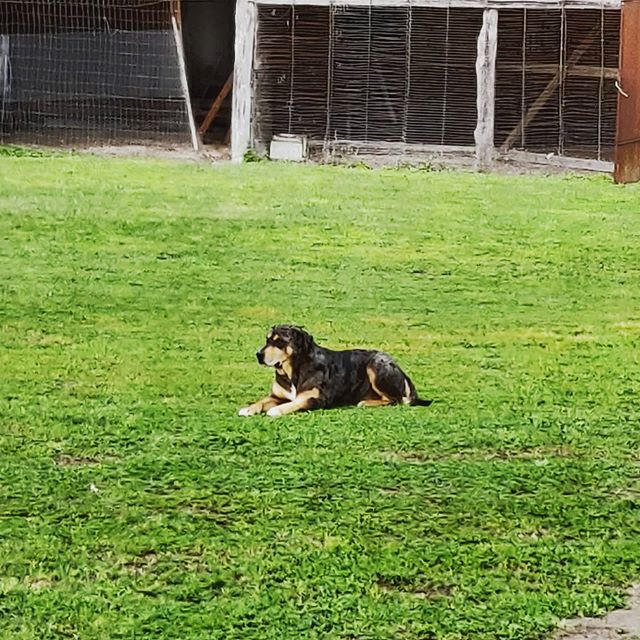animal: (237, 313, 441, 425)
grass: (1, 161, 627, 633)
